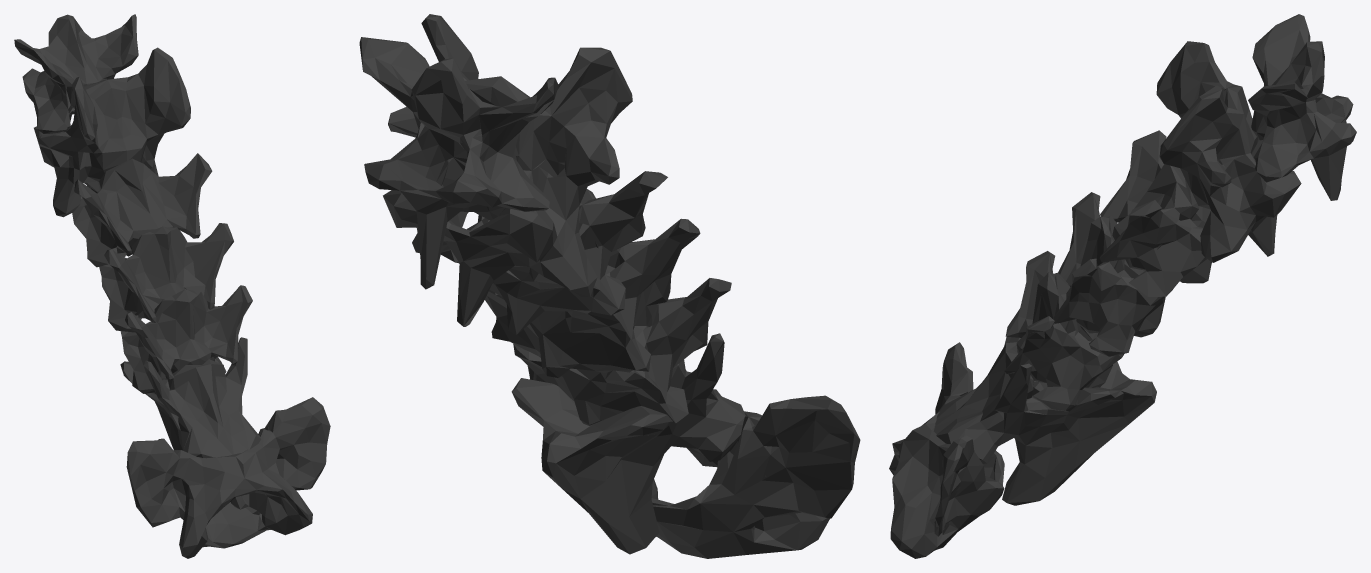
File: Spine_cervical.glb
3 views of the same model, side by side, from view 1: azimuth 30°, elevation 25°; view 2: azimuth 150°, elevation 25°; view 3: azimuth 270°, elevation 25° (orthographic). The views are drawn at different scales.
Parts seen in each view (by area): view 1: Spine_cervical; view 2: Spine_cervical; view 3: Spine_cervical.
Boxes of the visible parts, box(x1,y1,x2,y2) form: Spine_cervical: box(14, 14, 330, 558); Spine_cervical: box(359, 14, 860, 558); Spine_cervical: box(889, 14, 1356, 558).
Size of the model in its own units: 0.00225 by 0.00446 by 0.00384.
Materials: 1 (1 with a texture image).
